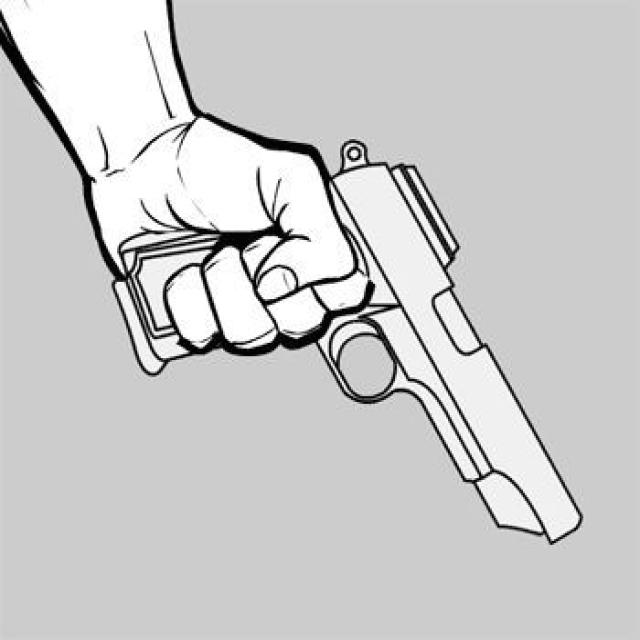handgun: (121, 136, 587, 538)
